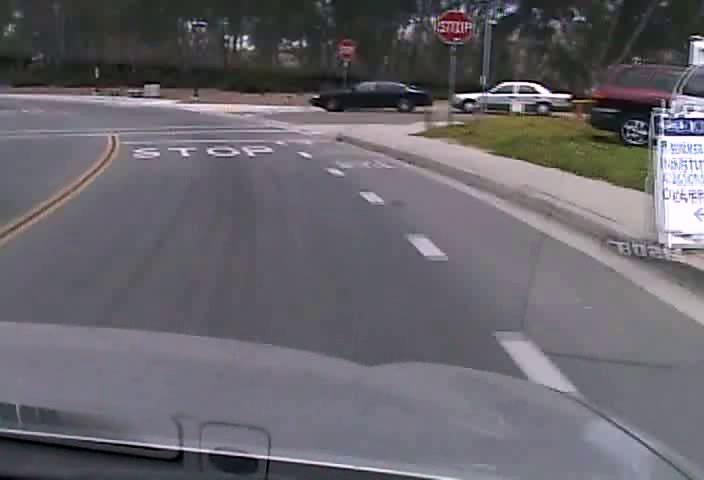stop: (436, 10, 473, 45)
